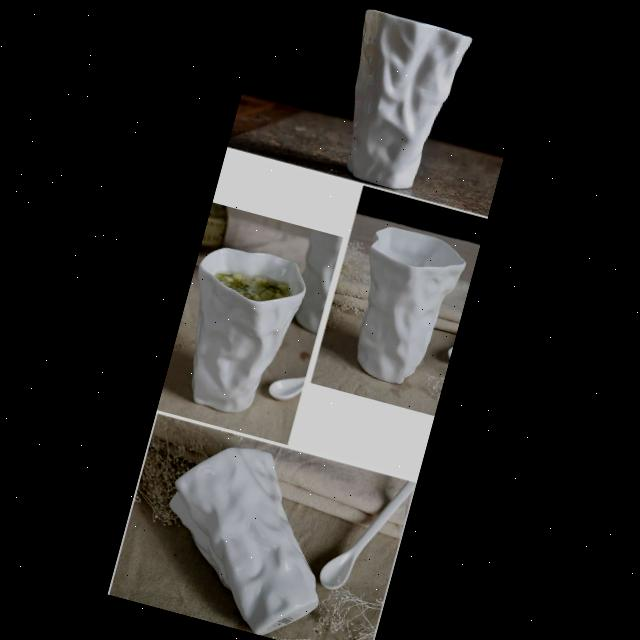trash: (137, 429, 348, 640), (320, 6, 477, 202), (334, 220, 472, 394)
